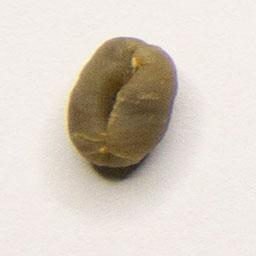peaberry: (64, 35, 180, 173)
